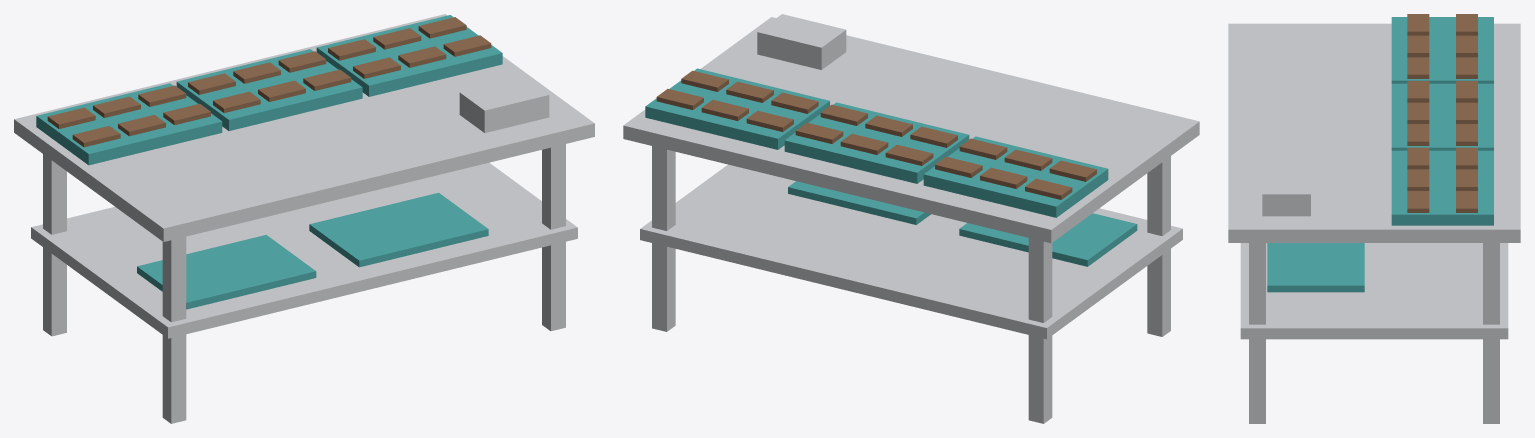
The model's file is chocolate-and-confectionery-factory-moulding-table-997c2095__36767.glb.
The picture shows the model from 3 angles, left to right: view 1: azimuth 30°, elevation 25°; view 2: azimuth 150°, elevation 25°; view 3: azimuth 270°, elevation 25°; orthographic projection. The views are drawn at different scales.
Parts seen in each view (by area): view 1: moulding-table; view 2: moulding-table; view 3: moulding-table.
Boxes of the visible parts, <box> form: moulding-table: <box>14,14,594,423</box>; moulding-table: <box>623,14,1199,423</box>; moulding-table: <box>1228,14,1520,423</box>.
Size of the model in its own units: 2 by 1.02 by 1.2.
